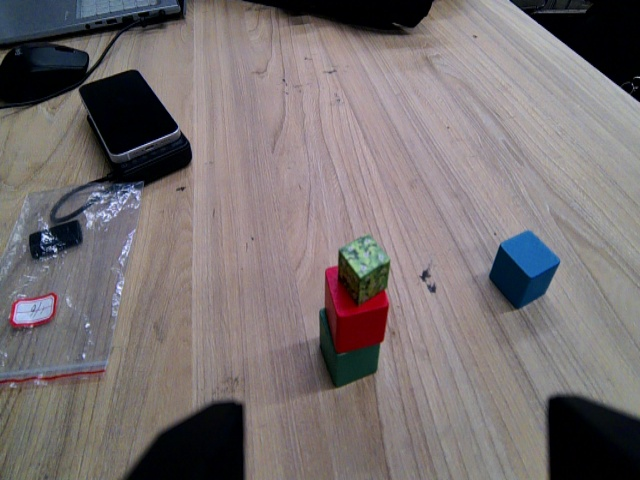grass: (338, 235, 391, 305)
